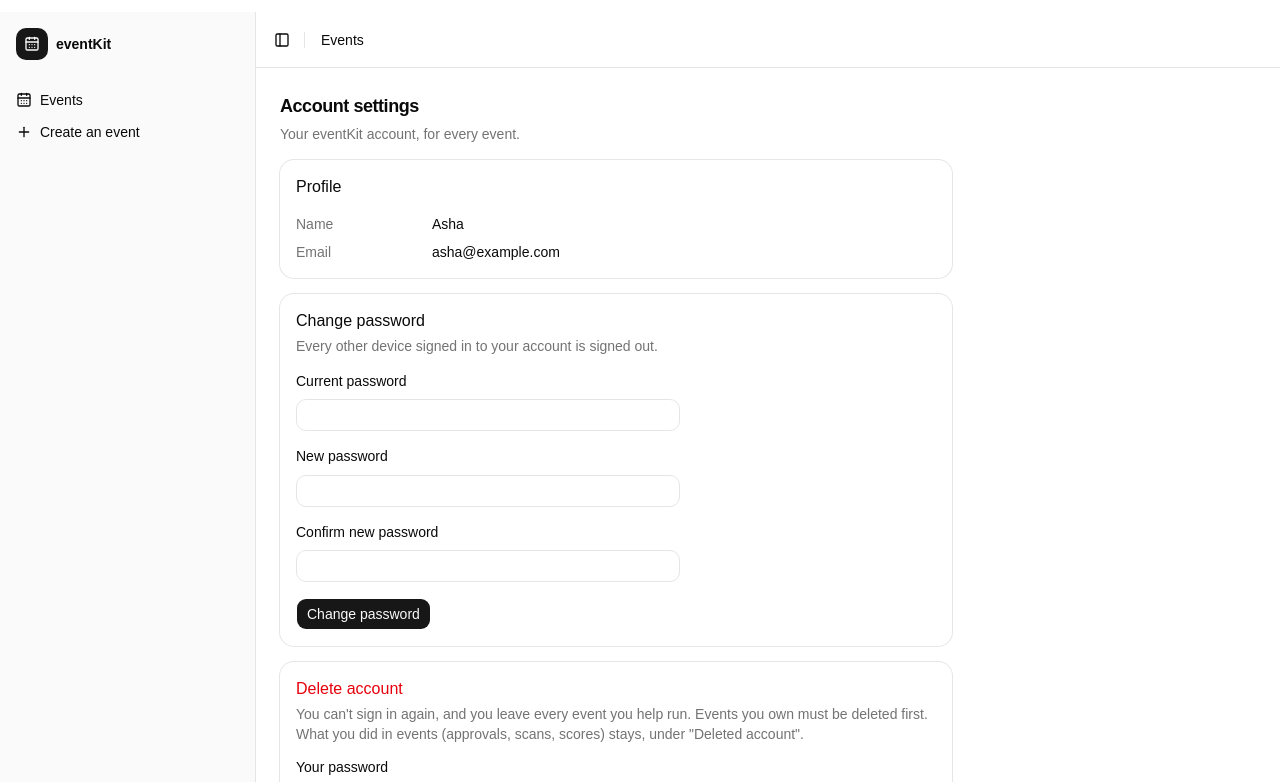
Test: account settings › changes the password and keeps this device signed in
Type "old-password" into the password field labelled "Current password" at (488, 415), box [296,399,680,431]
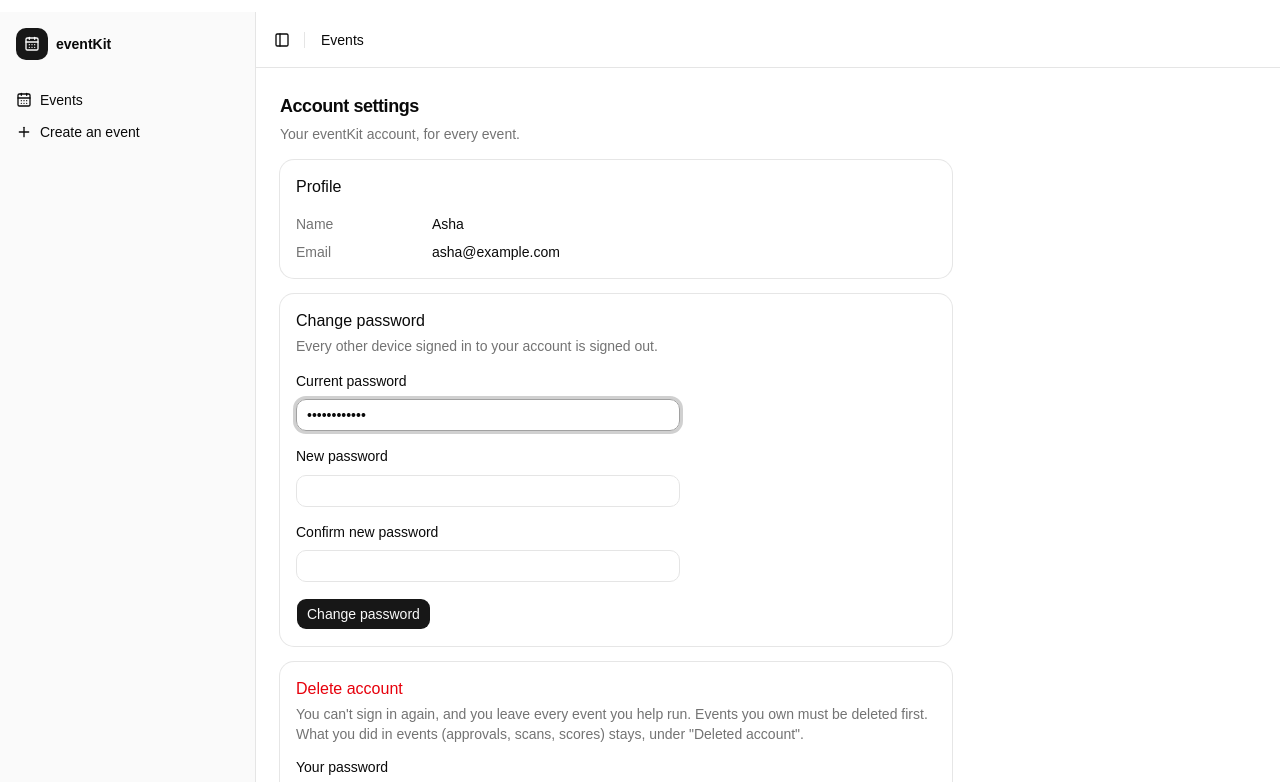
Type "new-password" into the password field labelled "New password" at (488, 490), box [296,474,680,506]
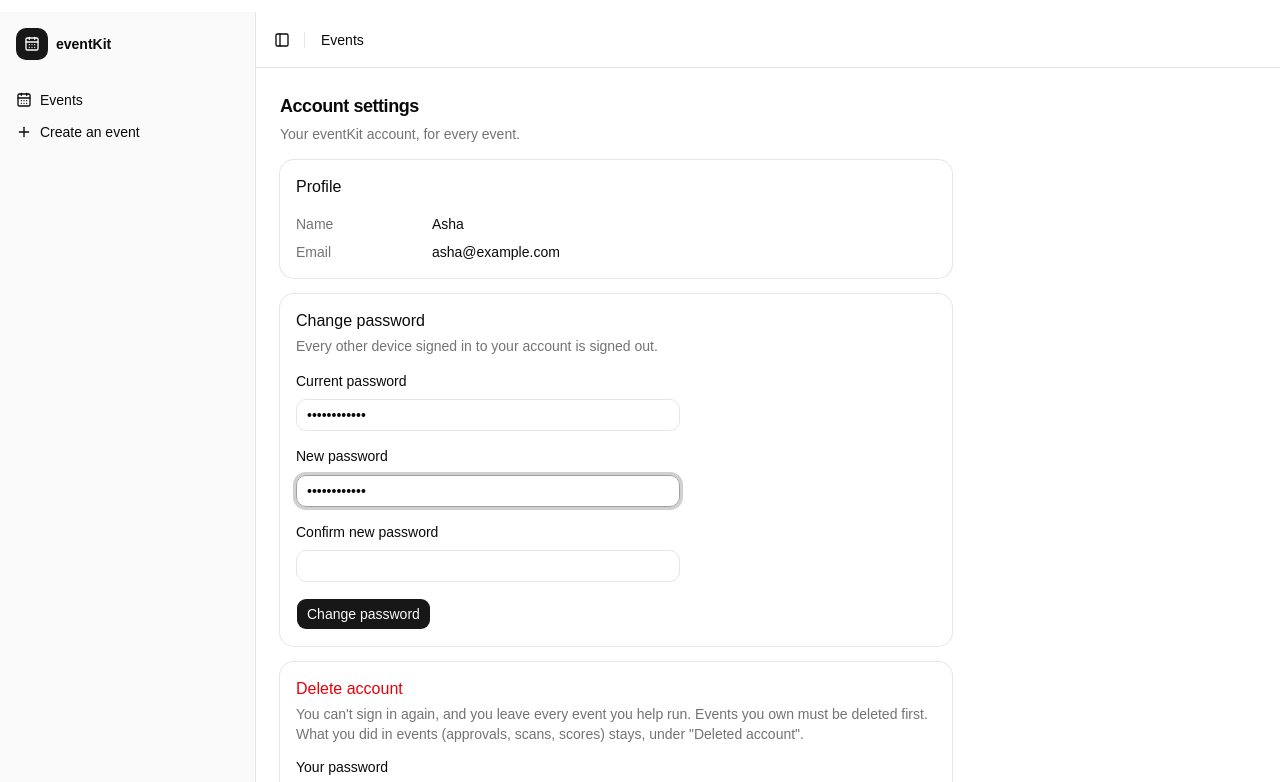
Type "new-passwerd" into the password field labelled "Confirm new password" at (488, 566), box [296,550,680,582]
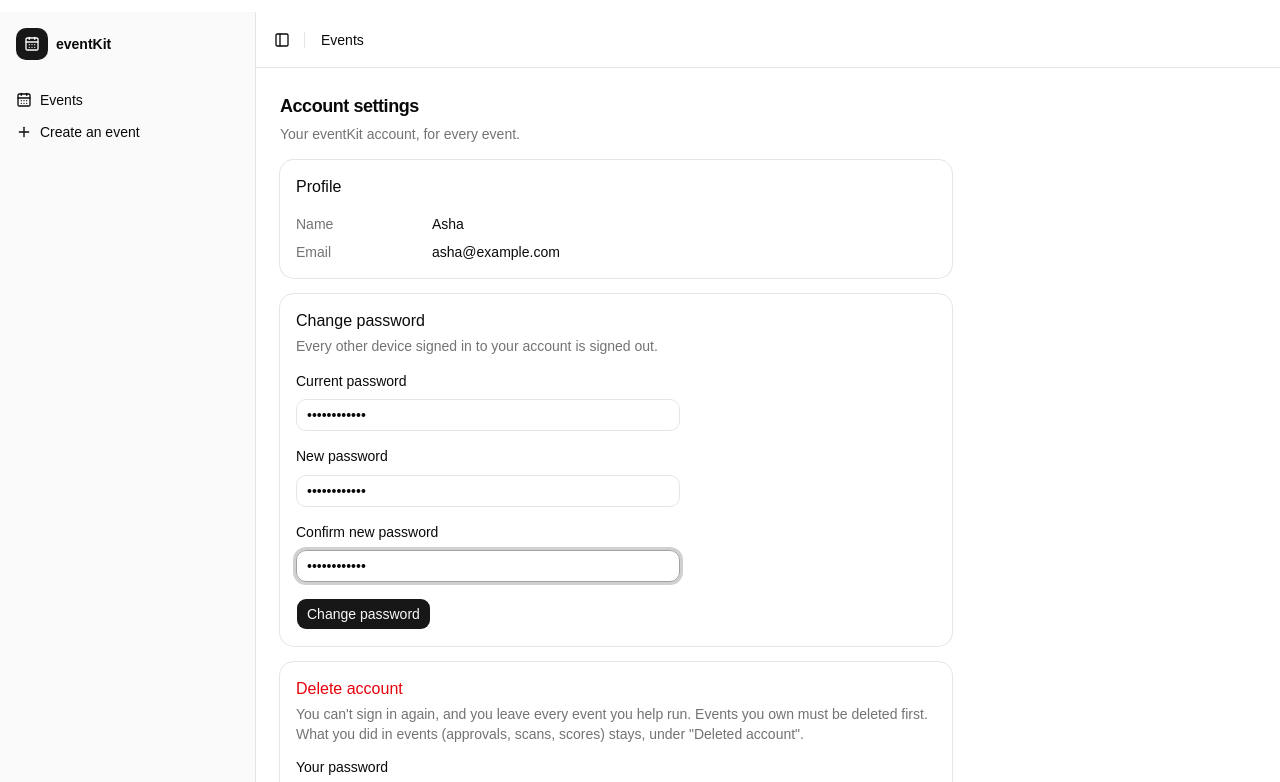
Click the button "Change password" at (363, 614), box [296,598,431,630]
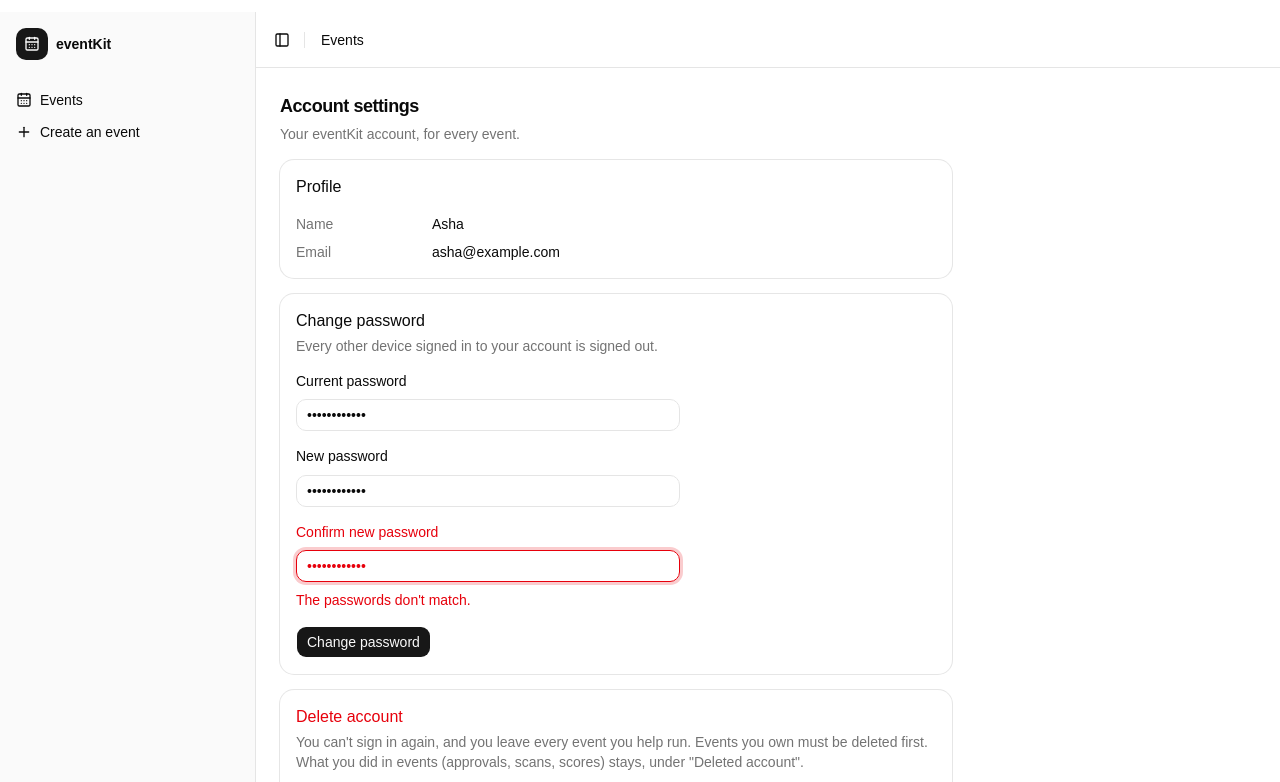
Result: the text "The passwords don't match." is shown at [296,592,471,608]
Type "new-password" into the password field labelled "Confirm new password" at (488, 566), box [296,550,680,582]
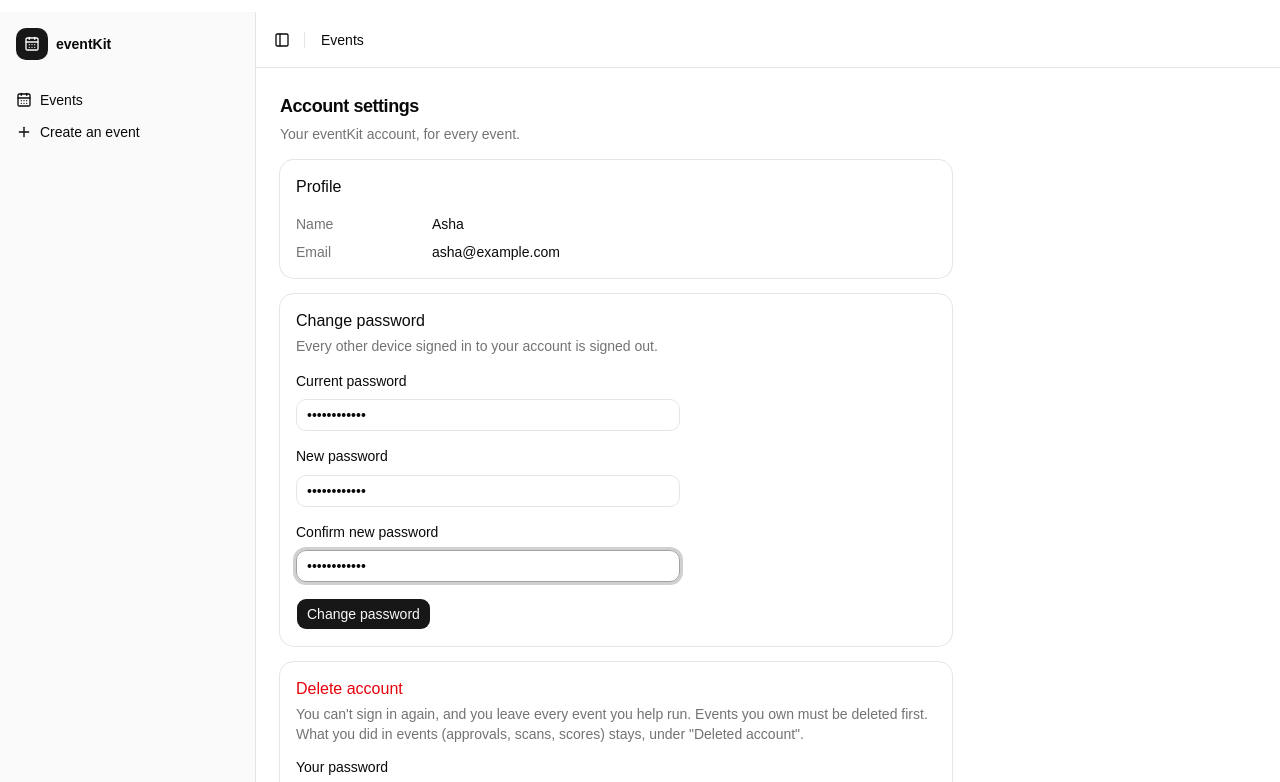
Click the button "Change password" at (363, 614), box [296,598,431,630]
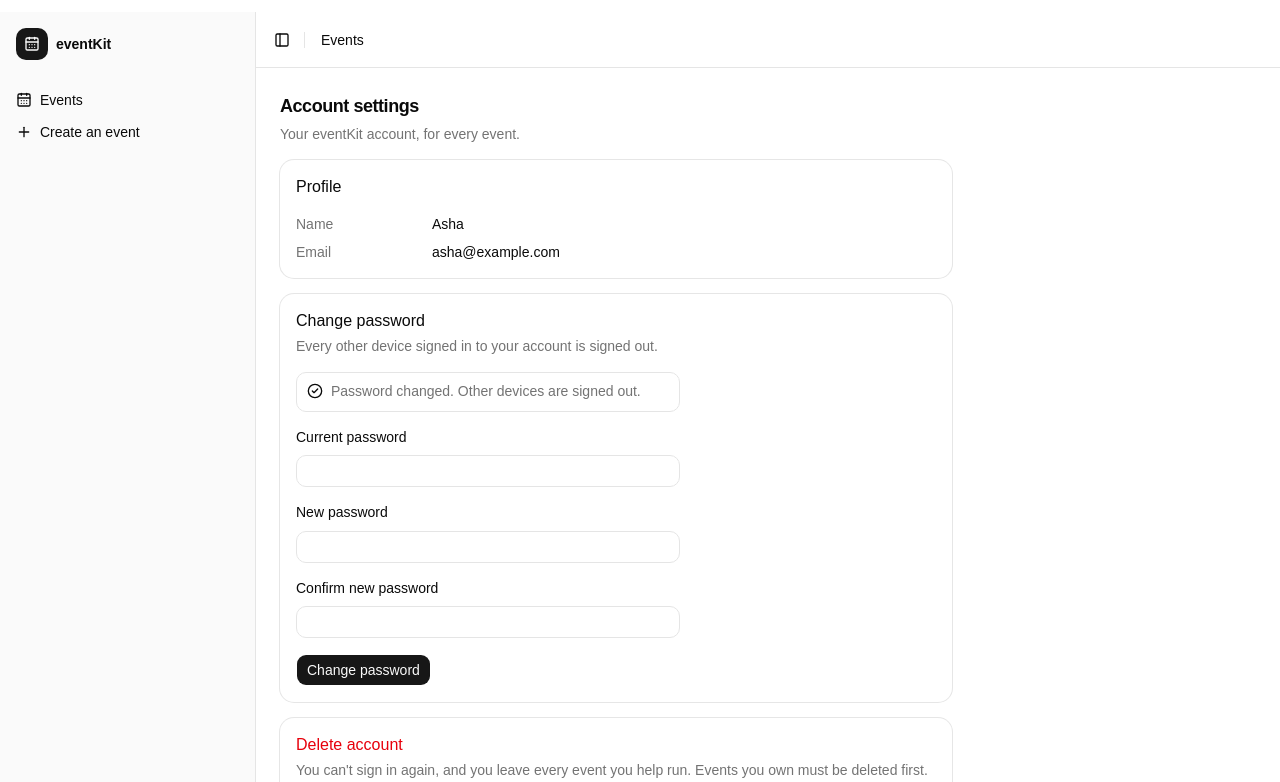
Result: the text "Password changed. Other devices are signed out." is shown at [331,381,669,401]
